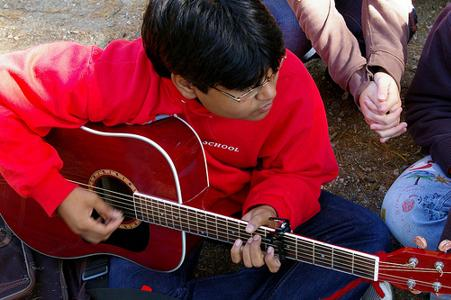person: (3, 4, 391, 300)
